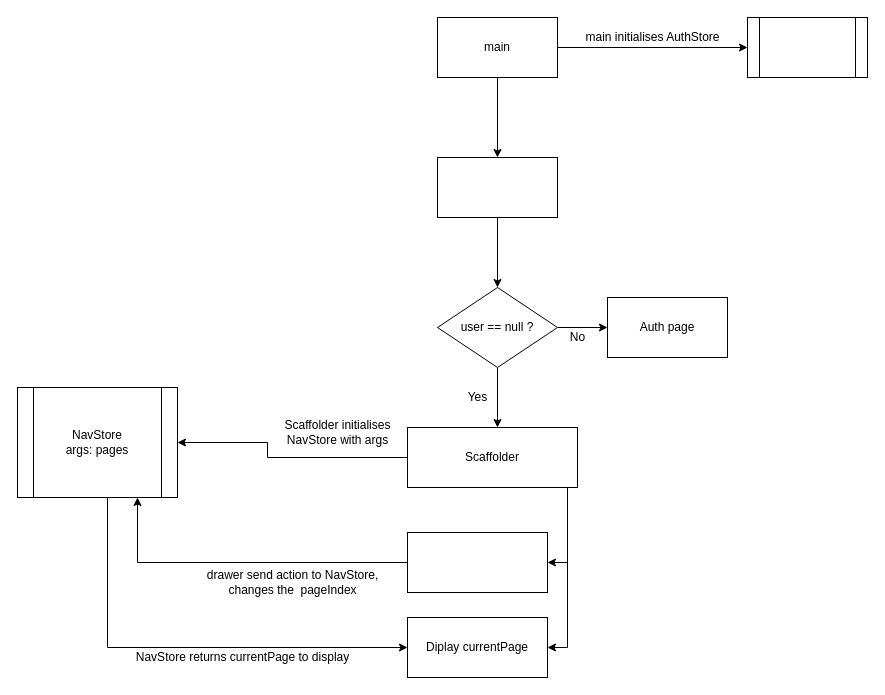
Image size: 885x695. Some labels were removed from this diagram. Each missing label, with the centre of its shape:
"App" goes at (497,187).
"AuthStore" goes at (807,47).
"Drawer action => changePage" goes at (477,562).
